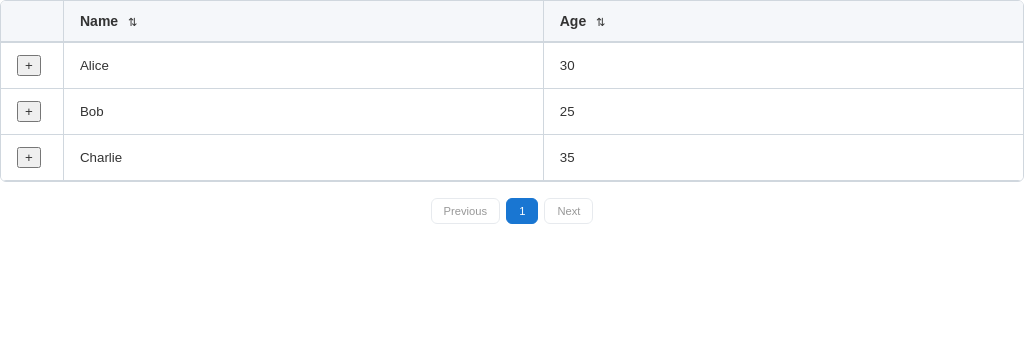
Test: TableComponent › should show expand and collapse row on button click
Click the button with test id "expand-btn-0" at (29, 66), box [17,55,41,76]
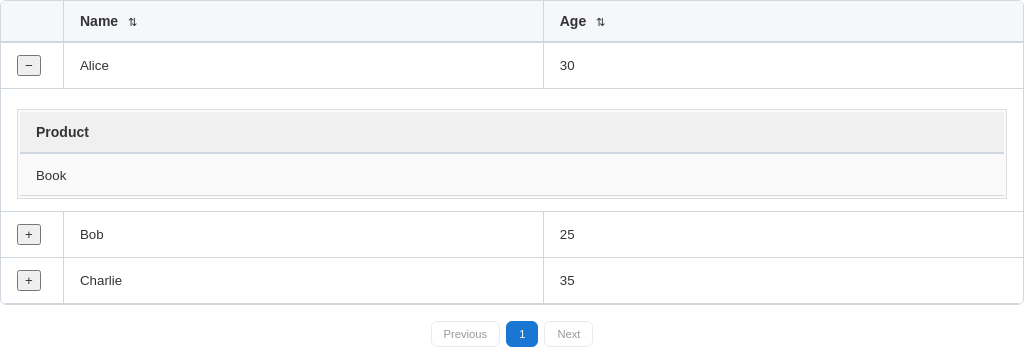
Now the table with class "nested-table" is shown, box [17,109,1007,199]
Click the button with test id "expand-btn-0" at (29, 66), box [17,55,41,76]
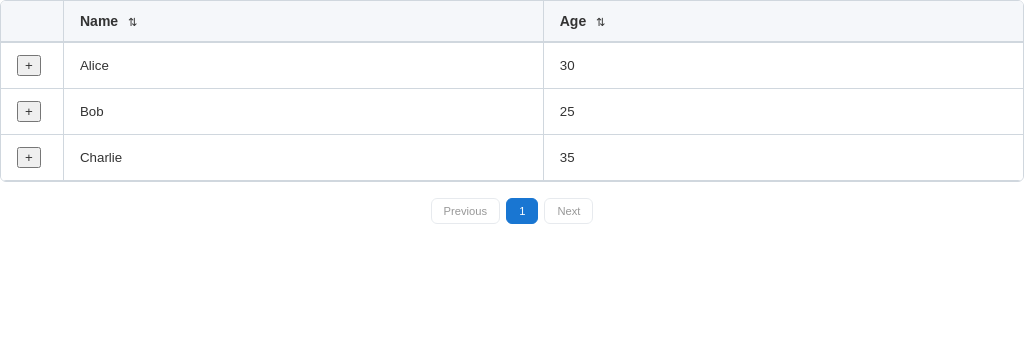
Now the table with class "nested-table" is gone
